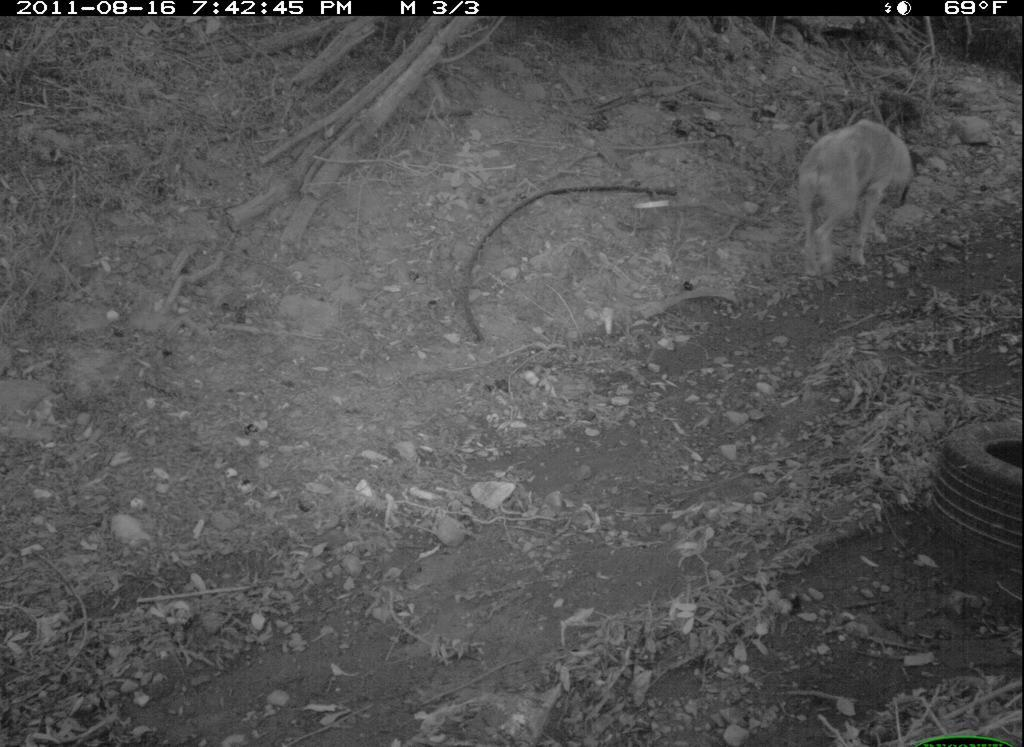dog: (786, 116, 936, 283)
